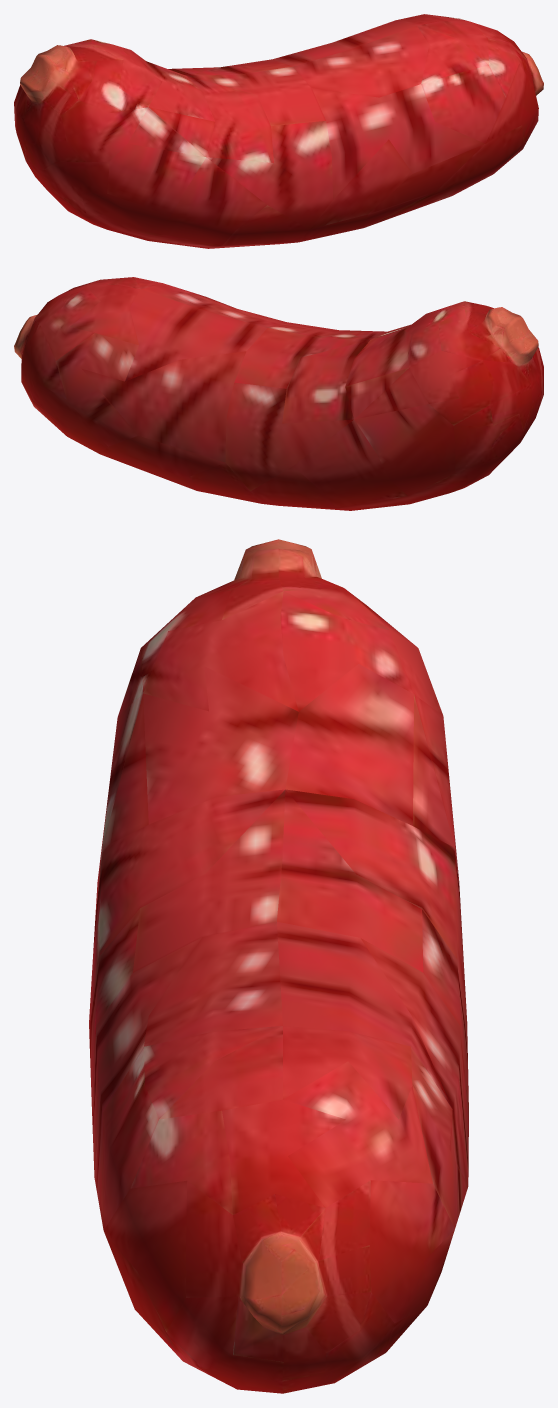
File: sausage.glb
3 views of the same model, one above another, from view 1: azimuth 30°, elevation 25°; view 2: azimuth 150°, elevation 25°; view 3: azimuth 270°, elevation 25° (orthographic). The views are drawn at different scales.
Visible parts, largest first — view 1: sausage; view 2: sausage; view 3: sausage.
Boxes of the visible parts, bbox=[...] form: sausage: bbox=[14, 14, 543, 248]; sausage: bbox=[14, 277, 543, 510]; sausage: bbox=[89, 539, 468, 1393].
Size of the model in its own units: 0.9 by 0.3988 by 0.2862.
Materials: 1 (1 with a texture image).
